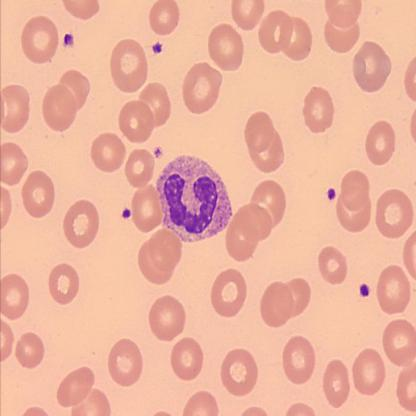Band Neutrophil: (154, 152, 235, 247)
